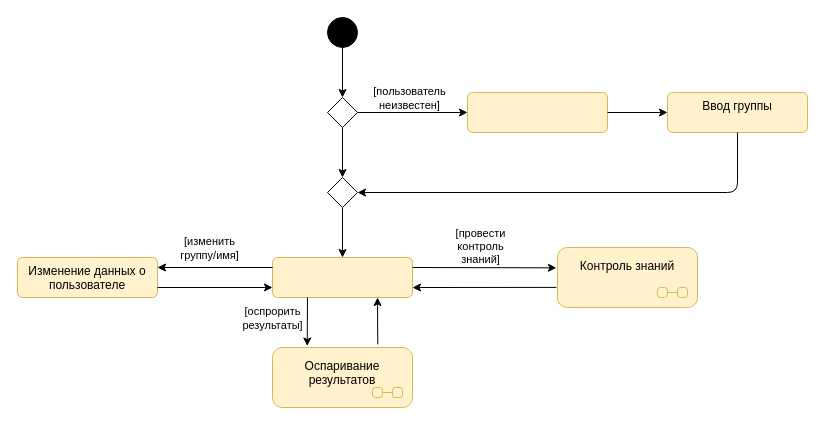
Some shapes in this 825 by 425 pixel diagram are drawn without their labels. Each missing label, with the centre of its shape:
"Ввод имени" goes at point 537,112.
"Основное состояние" goes at point 342,277.
